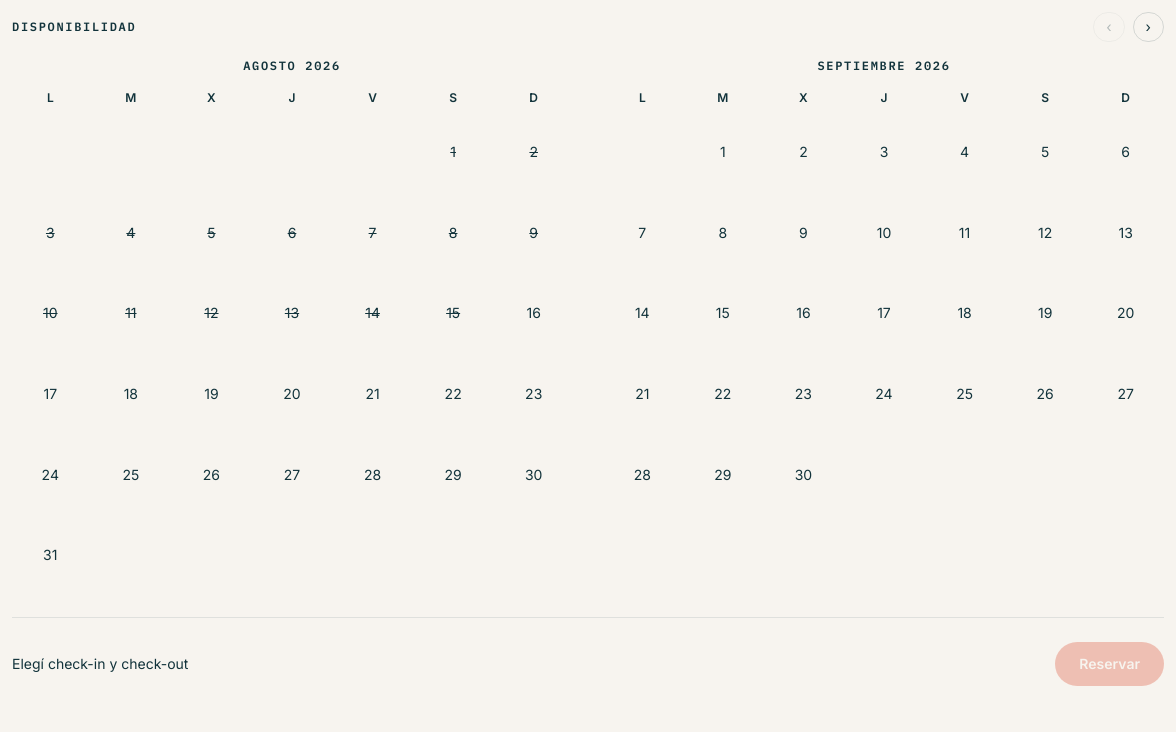
Test: AvailabilityCalendar — navegación de meses › avanzar un mes muestra septiembre/octubre
Click the button named "Mes siguiente" at (1148, 27), box top-left (1133, 12), bottom-right (1164, 42)
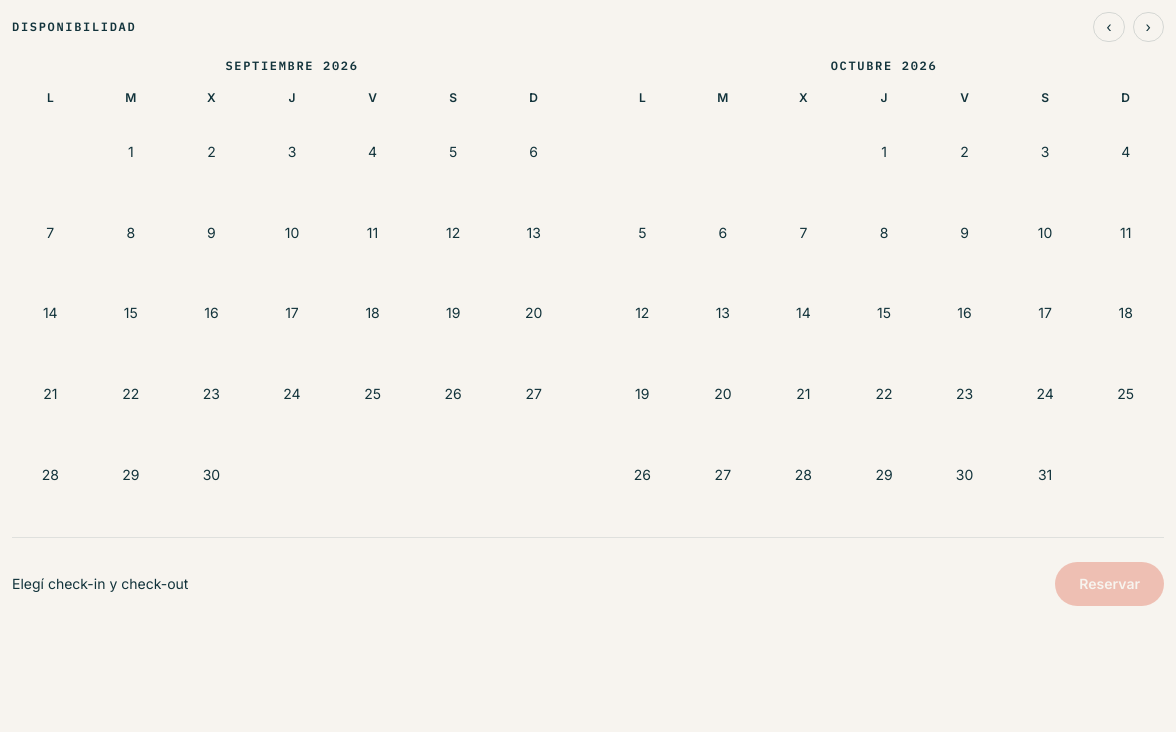
Expected: the text "Septiembre 2026" is shown, top-left (225, 58), bottom-right (359, 73)
Result: the text "Octubre 2026" is shown at top-left (831, 58), bottom-right (937, 73)
